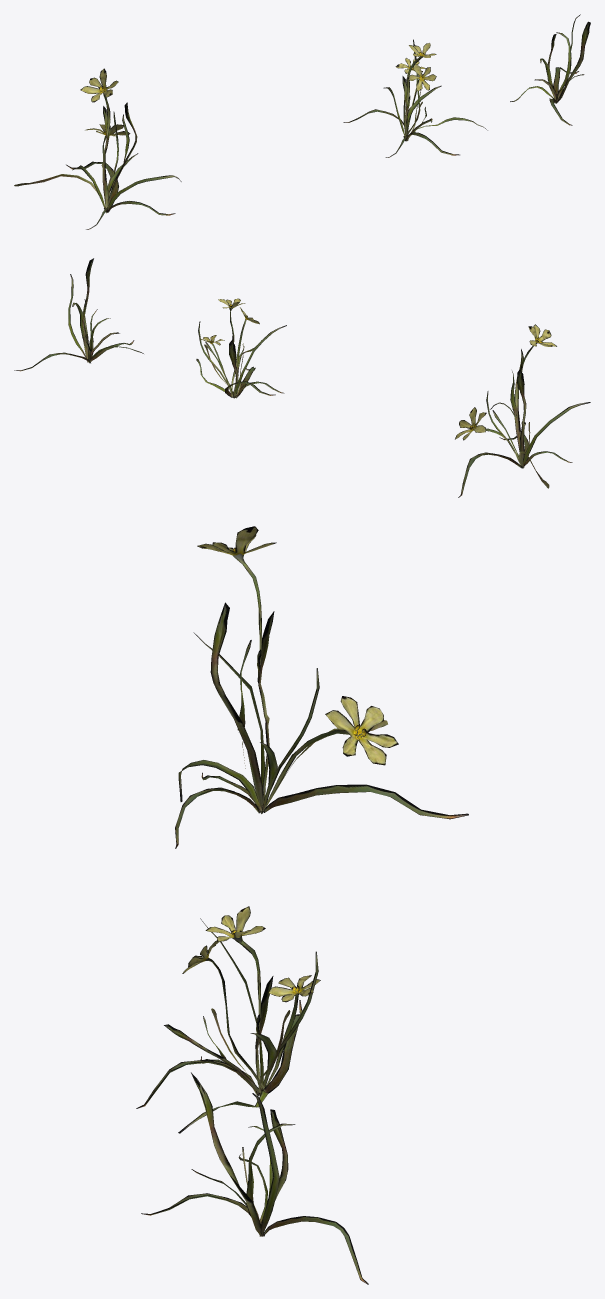
Rendered from empodium.glb.
3 views of the same model, one above another, from view 1: azimuth 30°, elevation 25°; view 2: azimuth 150°, elevation 25°; view 3: azimuth 270°, elevation 25° (orthographic). The views are drawn at different scales.
Visible parts, largest first — view 1: flower_empodium_a_LOD0, flower_empodium_c_LOD0, flower_empodium_d_LOD0; view 2: flower_empodium_a_LOD0, flower_empodium_c_LOD0, flower_empodium_d_LOD0; view 3: flower_empodium_a_LOD0, flower_empodium_c_LOD0, flower_empodium_d_LOD0.
Boxes of the visible parts, x1,y1,x2,y2 form: flower_empodium_a_LOD0: [14, 68, 181, 229]; flower_empodium_c_LOD0: [343, 39, 487, 157]; flower_empodium_d_LOD0: [510, 14, 590, 125]; flower_empodium_a_LOD0: [455, 324, 590, 497]; flower_empodium_c_LOD0: [196, 298, 286, 398]; flower_empodium_d_LOD0: [14, 258, 143, 371]; flower_empodium_a_LOD0: [175, 526, 468, 848]; flower_empodium_c_LOD0: [136, 906, 320, 1133]; flower_empodium_d_LOD0: [141, 1072, 368, 1284].
Size of the model in its own units: 1.06 by 0.2683 by 0.2841.
1 material, 1 textured.
